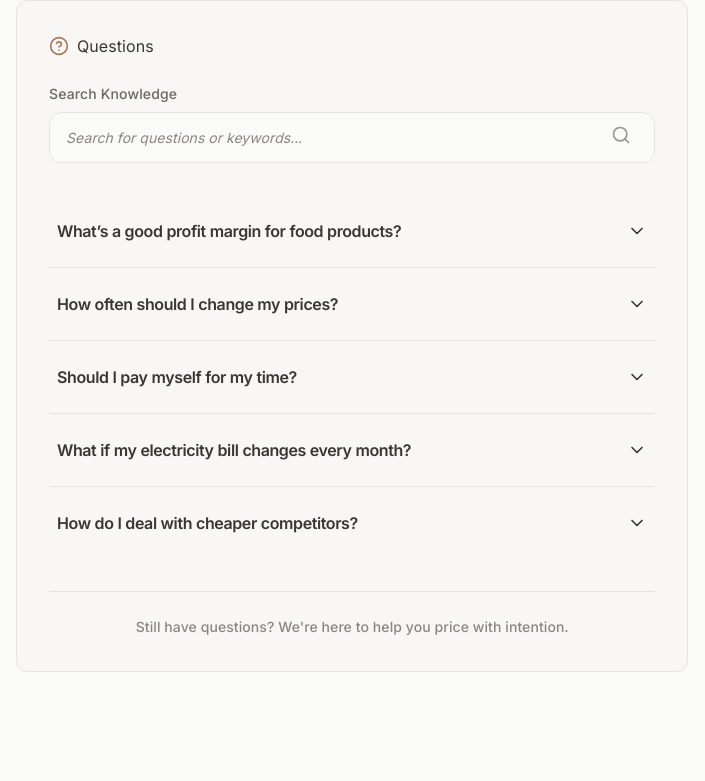
Test: FAQ › expands and collapses an item when clicked
The image size is (705, 781).
Click the button "What’s a good profit margin for food products?".
click(352, 231)  # box [49,195,655,267]
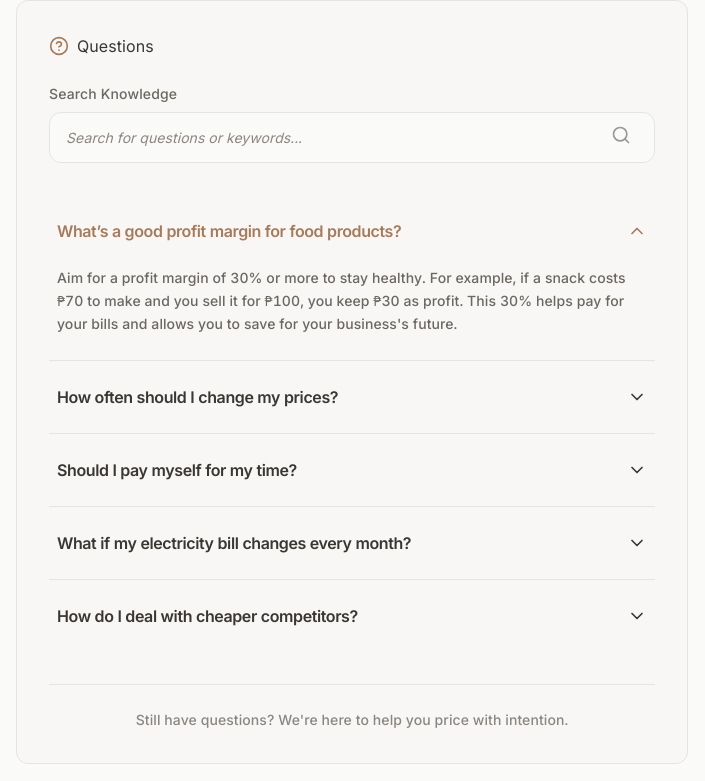
Expected: the button "What’s a good profit margin for food products?" is expanded
Expected: the text "Aim for a profit margin of 30% or more to stay healthy" is shown, [57,269,626,332]
Click the button "What’s a good profit margin for food products?".
click(352, 231)  # box [49,195,655,267]
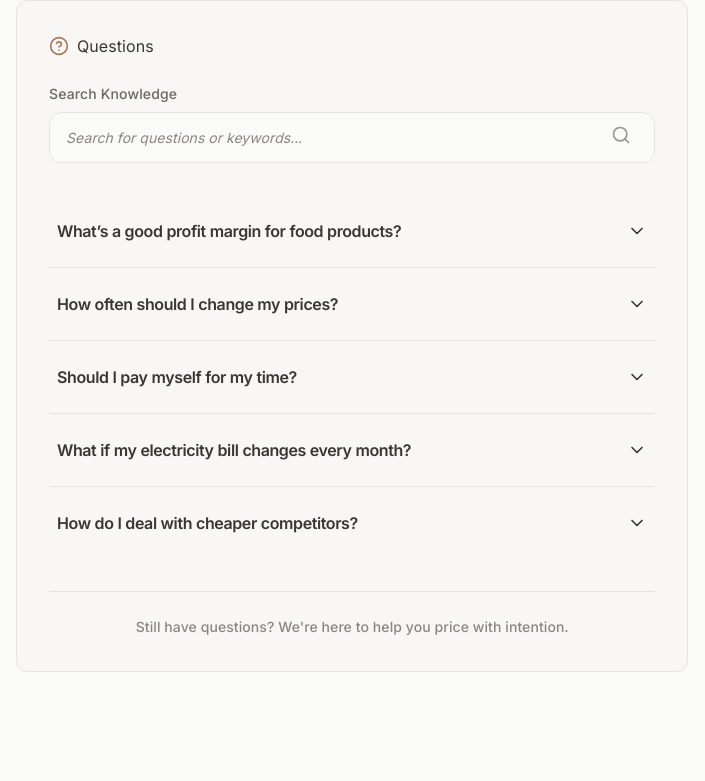
Expected: the button "What’s a good profit margin for food products?" is collapsed, [49,195,655,267]
